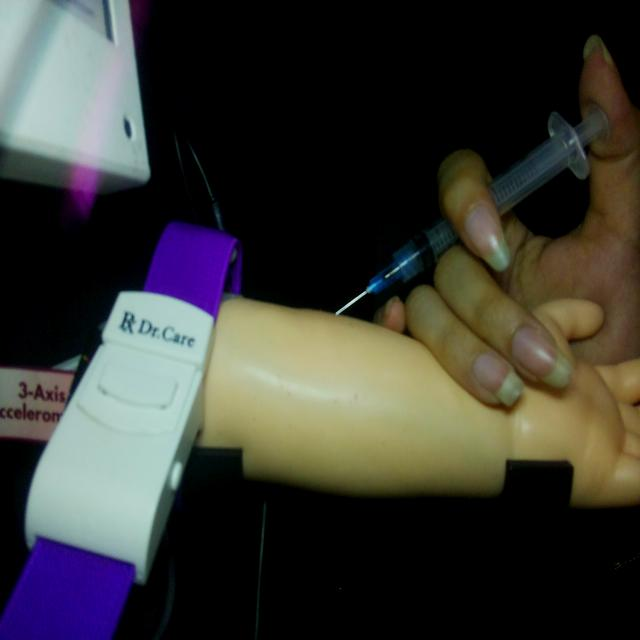22 degrees: (333, 100, 611, 318)
